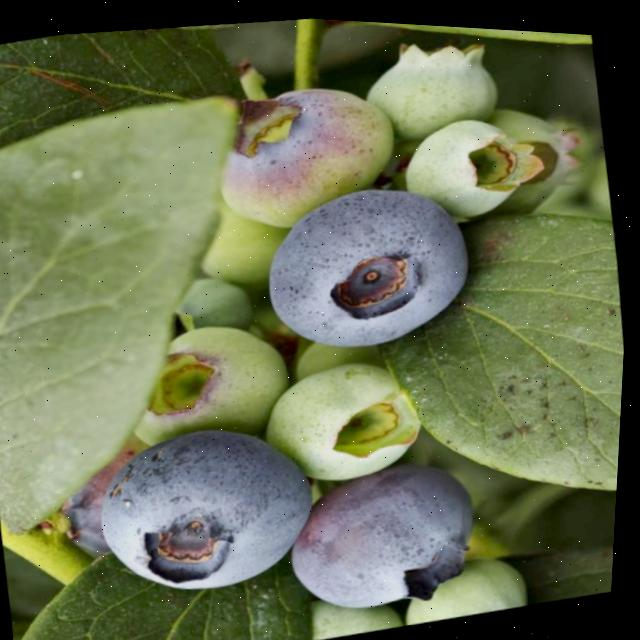RipeBlueBerry: (84, 402, 339, 620), (250, 161, 490, 375), (276, 447, 501, 632)
